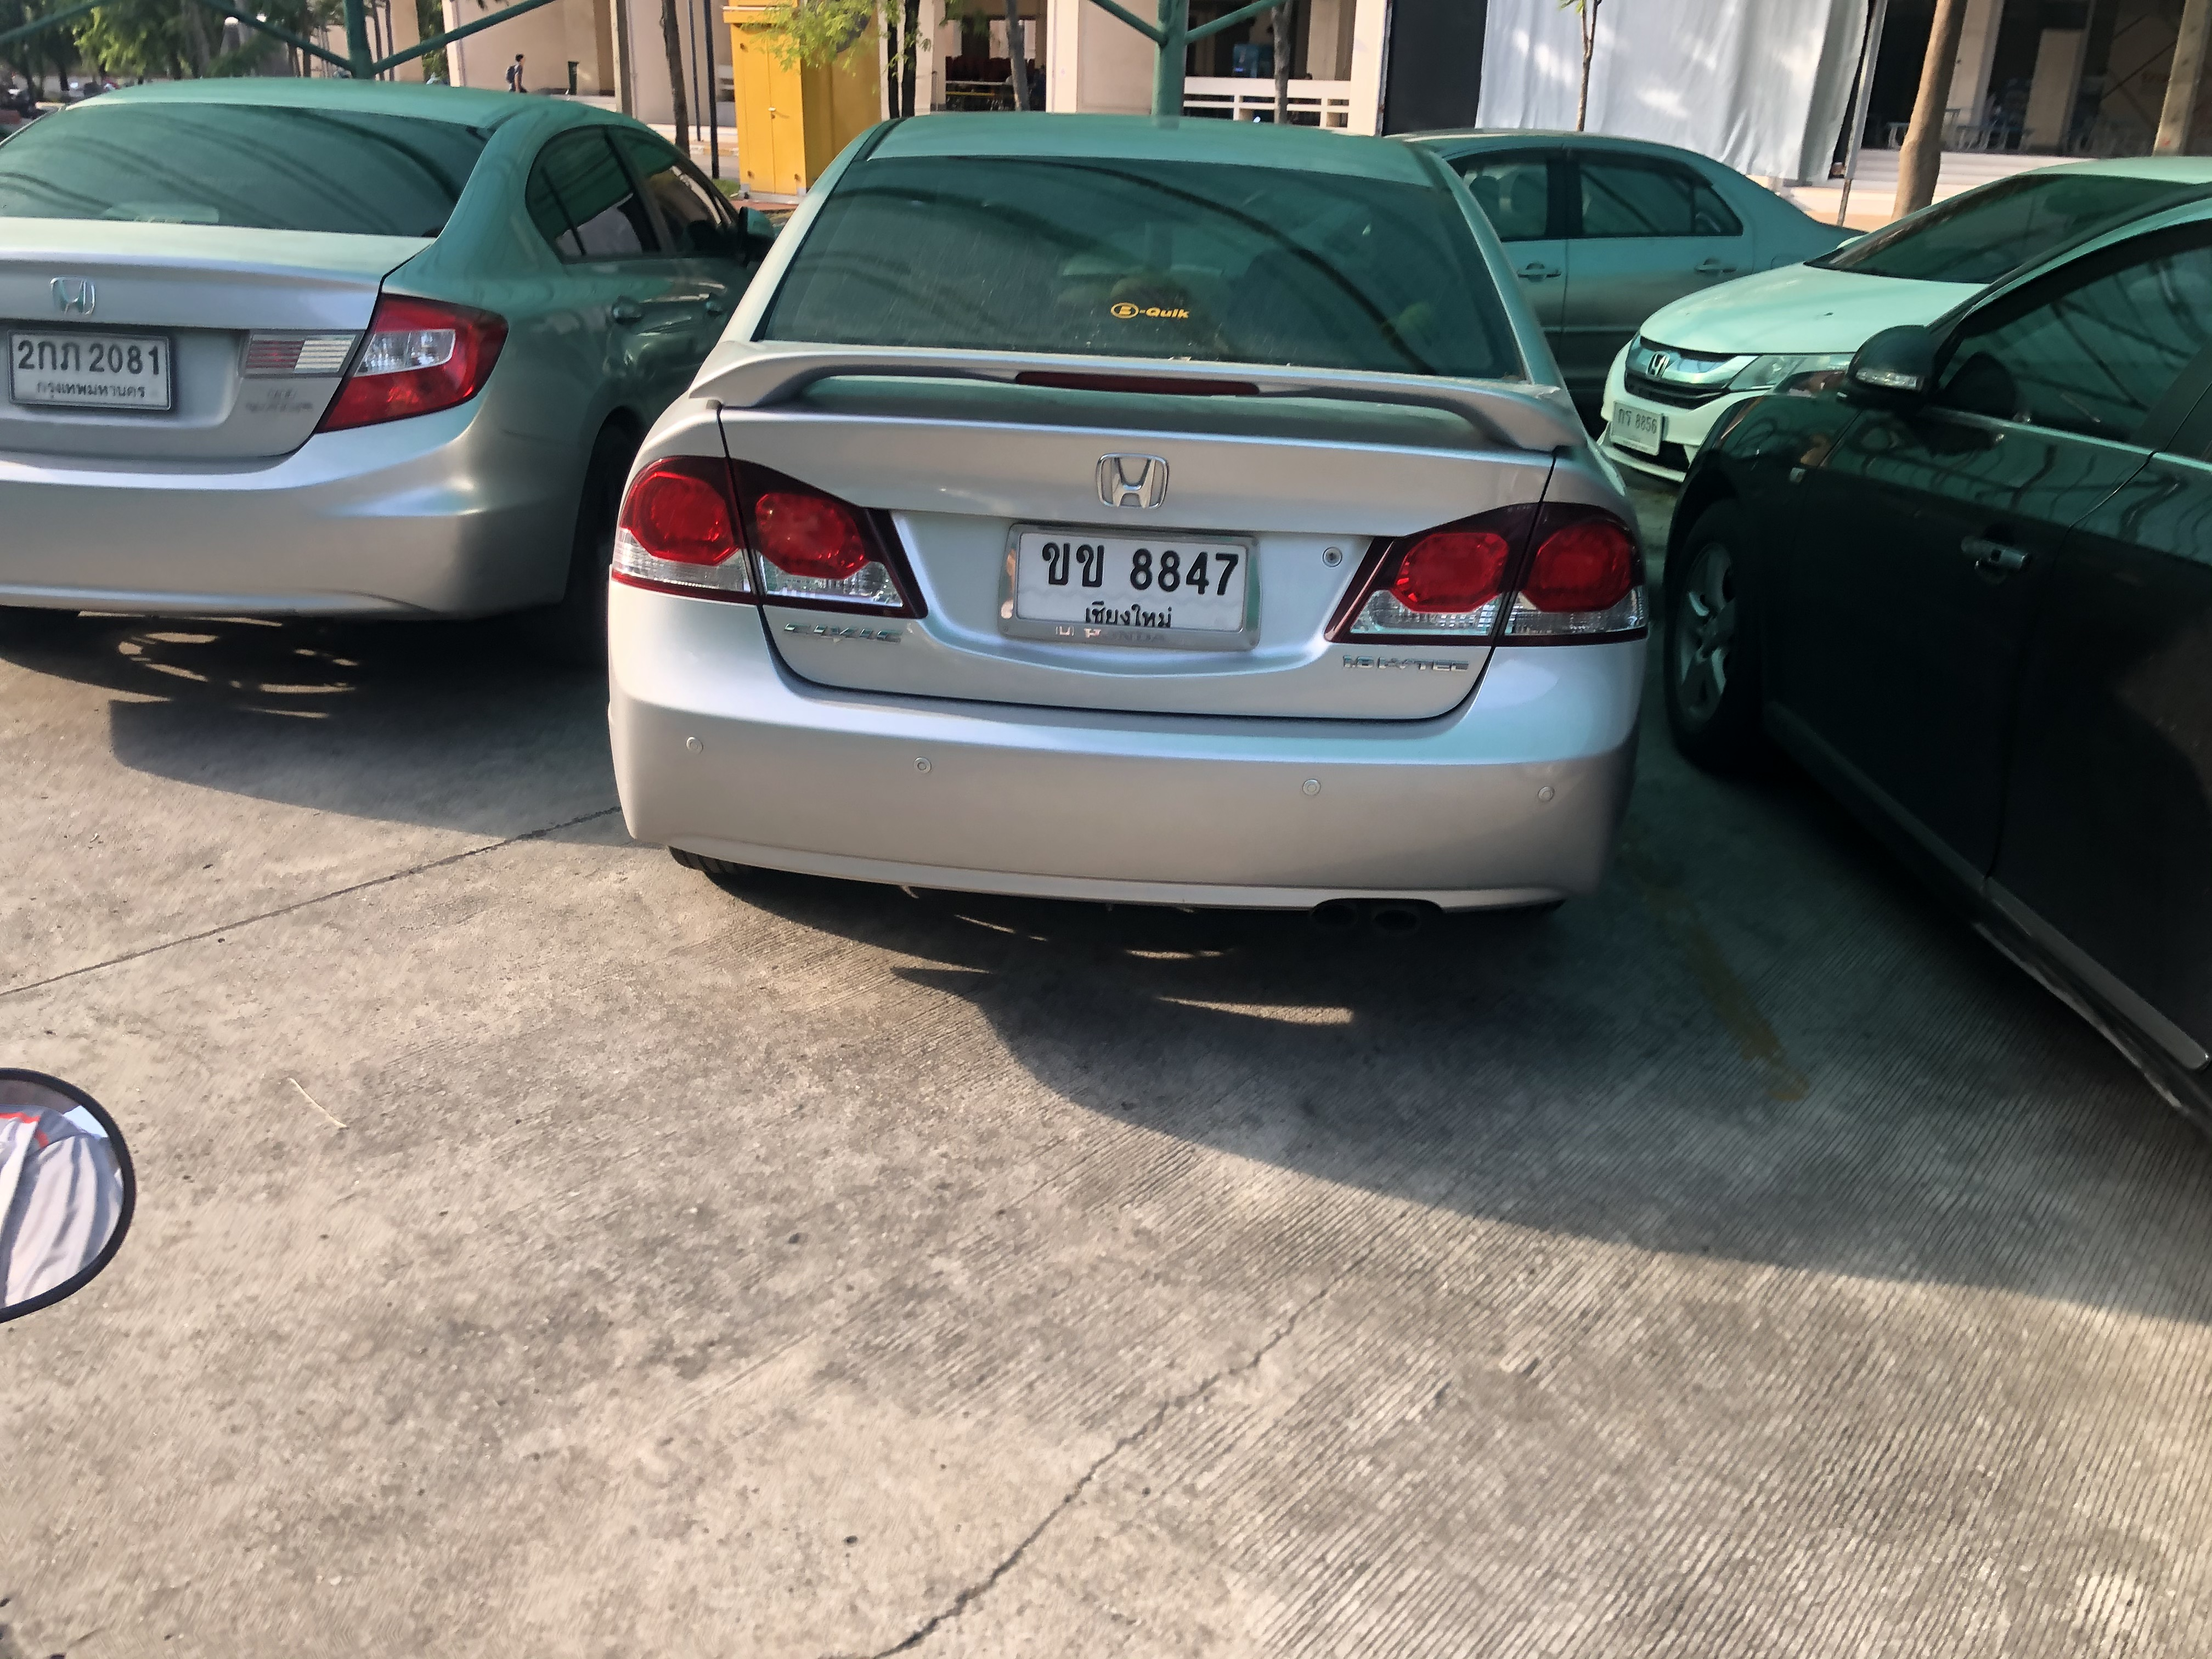in: (1021, 532, 1249, 631), (10, 333, 165, 408)
out: (1001, 516, 1261, 657), (5, 324, 178, 416)
